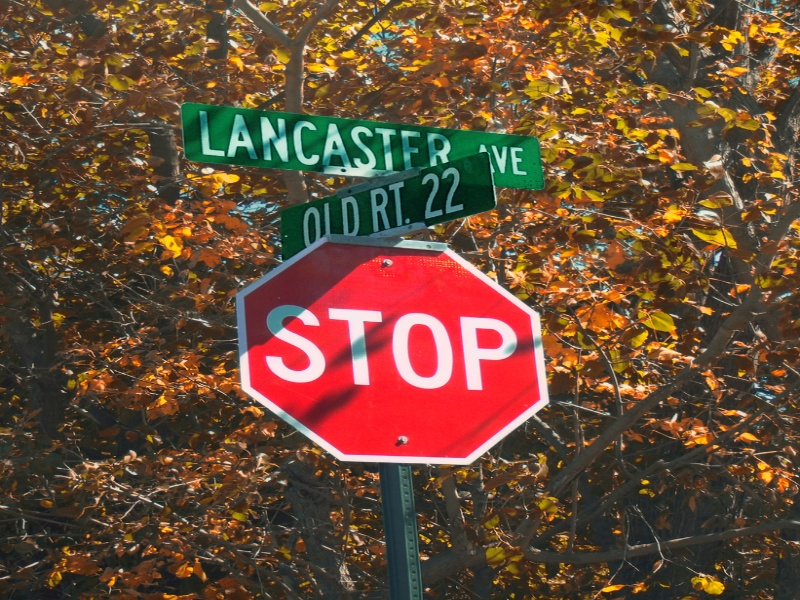stop: (230, 250, 559, 459)
